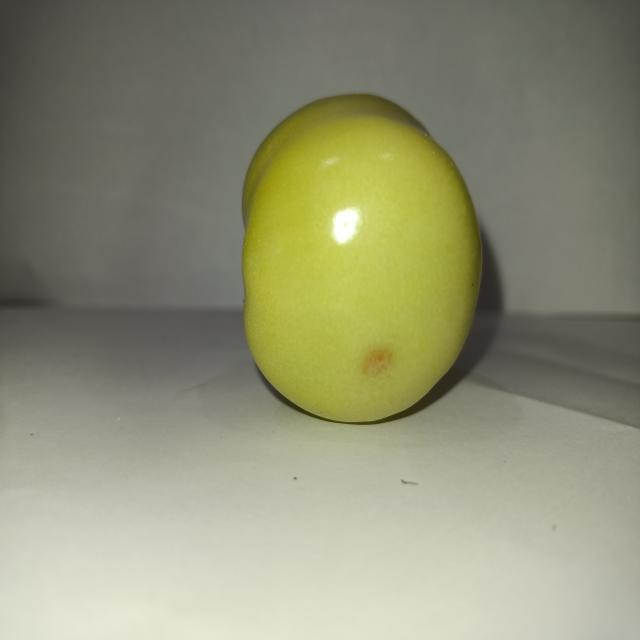Red: (239, 91, 484, 424)
